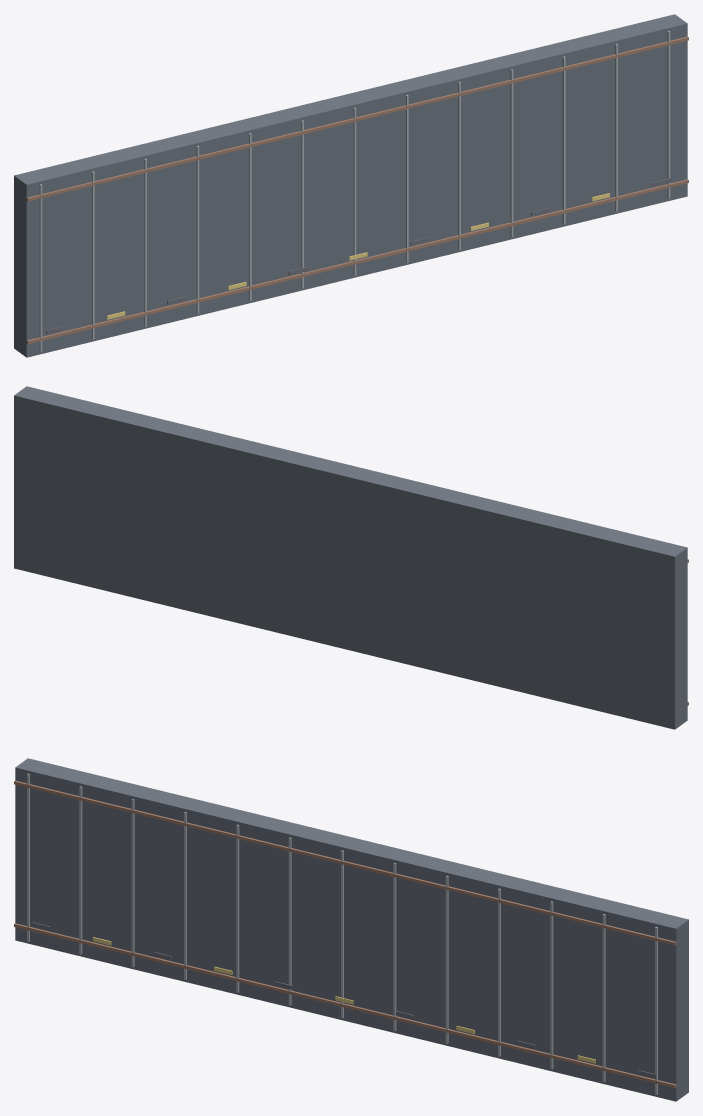
Rendered from muro_fondo.glb.
The picture shows the model from 3 angles, top to bottom: view 1: azimuth 30°, elevation 25°; view 2: azimuth 150°, elevation 25°; view 3: azimuth 330°, elevation 25°; orthographic projection.
Visible parts, largest first — view 1: muro_fondo; view 2: muro_fondo; view 3: muro_fondo.
Boxes of the visible parts, x1=… form: muro_fondo: x1=14, y1=14, x2=688, y2=357; muro_fondo: x1=14, y1=386, x2=688, y2=729; muro_fondo: x1=14, y1=758, x2=688, y2=1101.
Size of the model in its own units: 24 by 6 by 0.8975.
